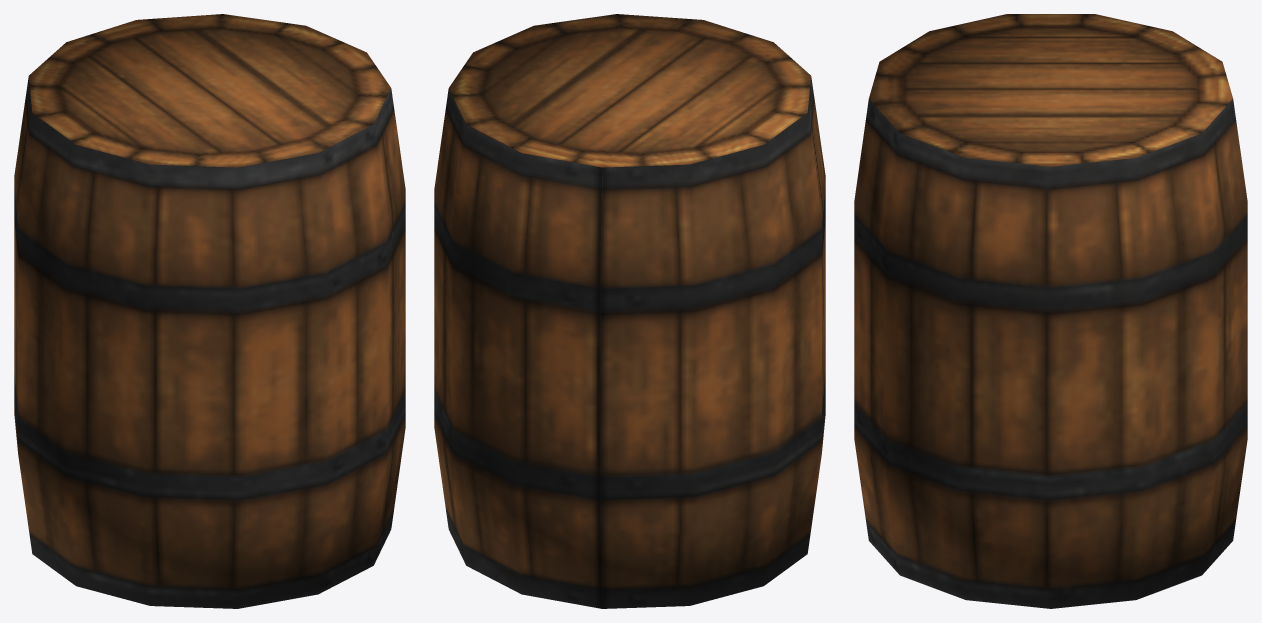
The model's file is barrel.FBX.
3 renders of one model, left to right at view 1: azimuth 30°, elevation 25°; view 2: azimuth 150°, elevation 25°; view 3: azimuth 270°, elevation 25°, orthographic.
Parts seen in each view (by area): view 1: varil_01; view 2: varil_01; view 3: varil_01.
Part boxes in pixels (x1,y1,x2,y2): varil_01: (14, 14, 405, 608); varil_01: (434, 14, 825, 608); varil_01: (854, 14, 1247, 608).
Size of the model in its own units: 269 by 336 by 271.
